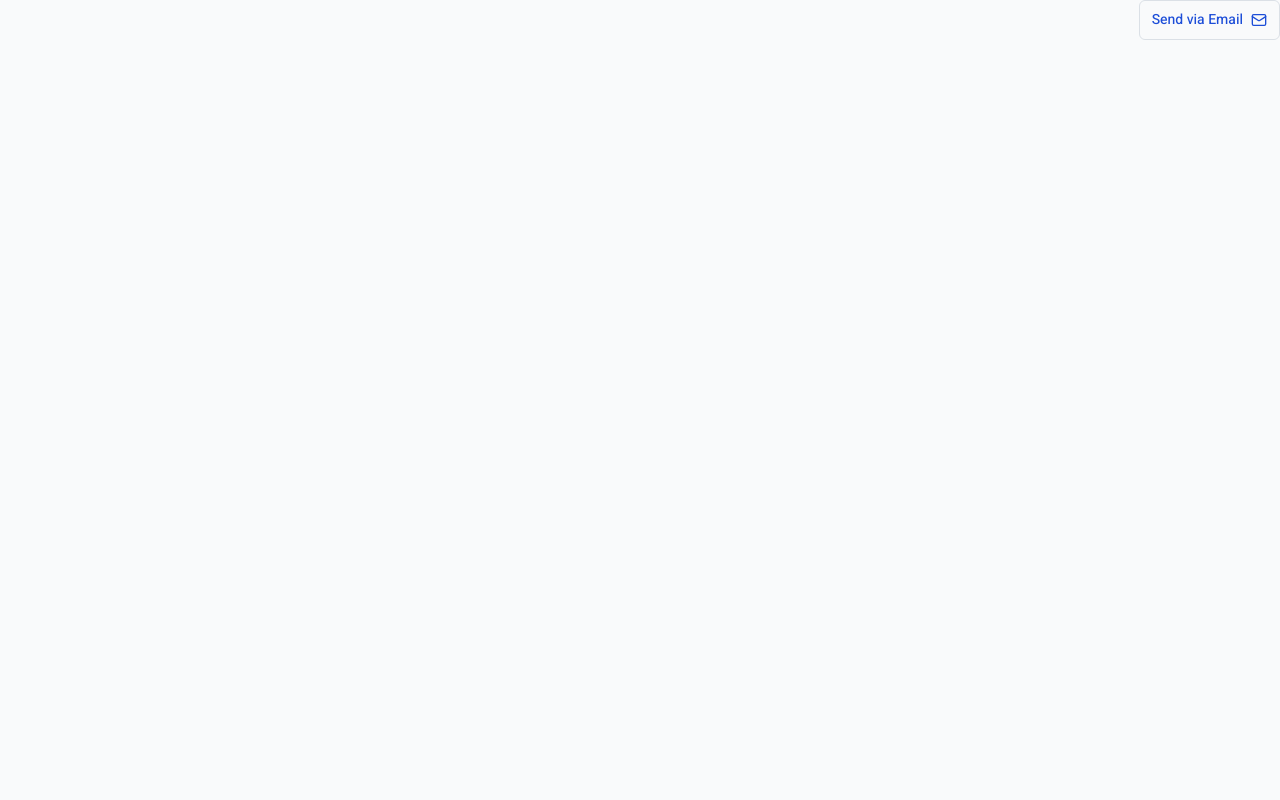
Test case: EmailComposer › pre-fills body with provided body prop
Click the button "Send via Email".
click(1209, 20)  # box top-left (1139, 0), bottom-right (1279, 40)
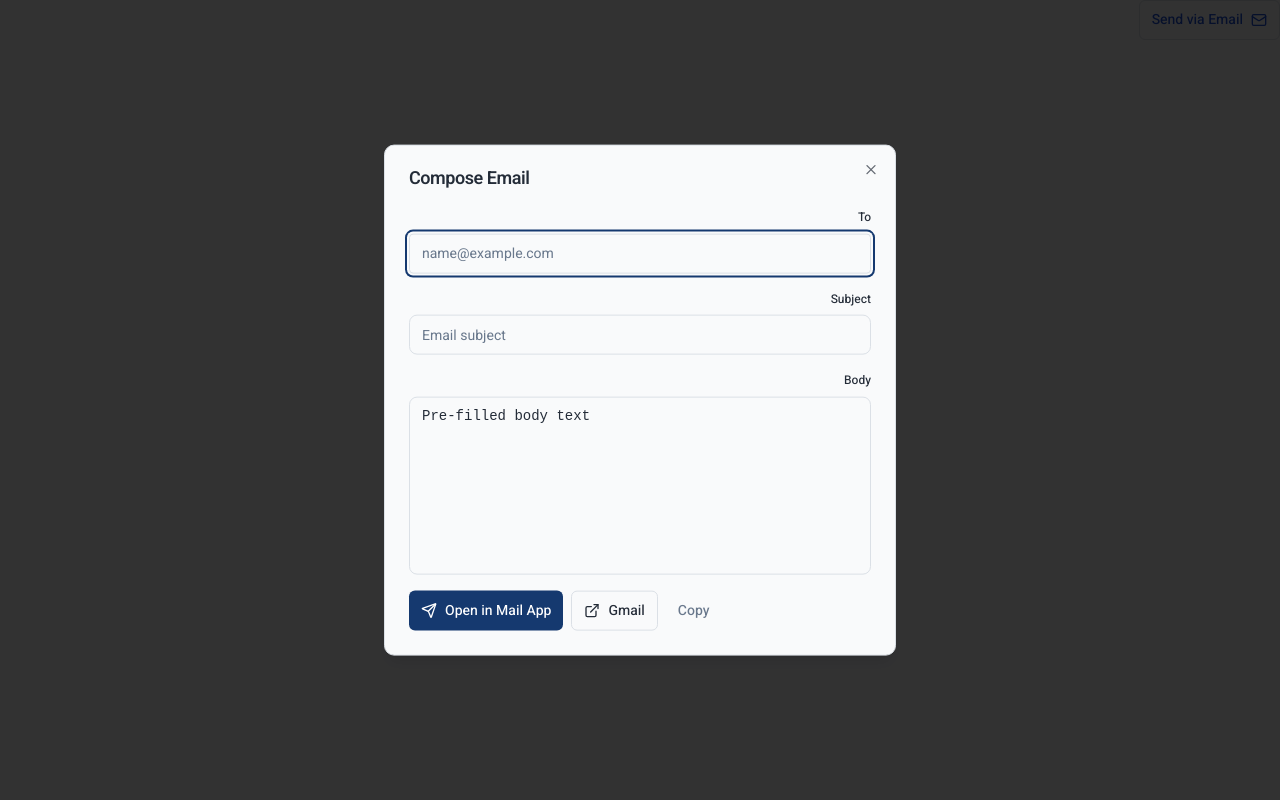
Expected: the text box labelled "Body" holds "Pre-filled body text", top-left (409, 396), bottom-right (871, 574)
